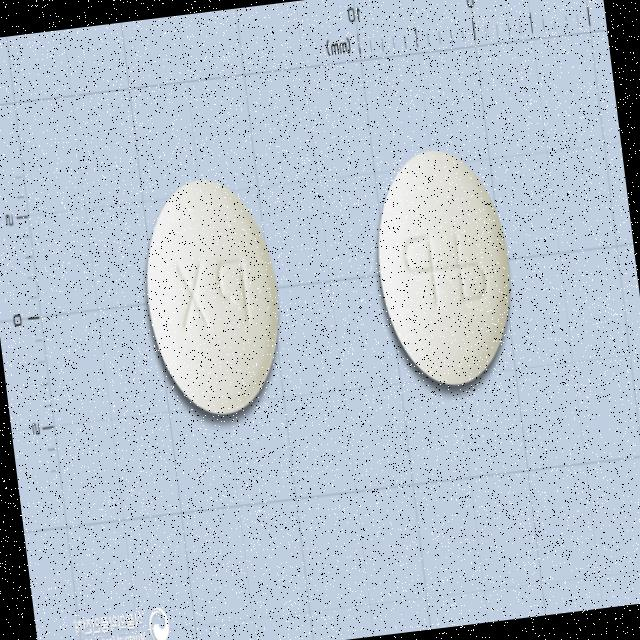Proxco Tab: (364, 140, 524, 393), (132, 170, 292, 422)
